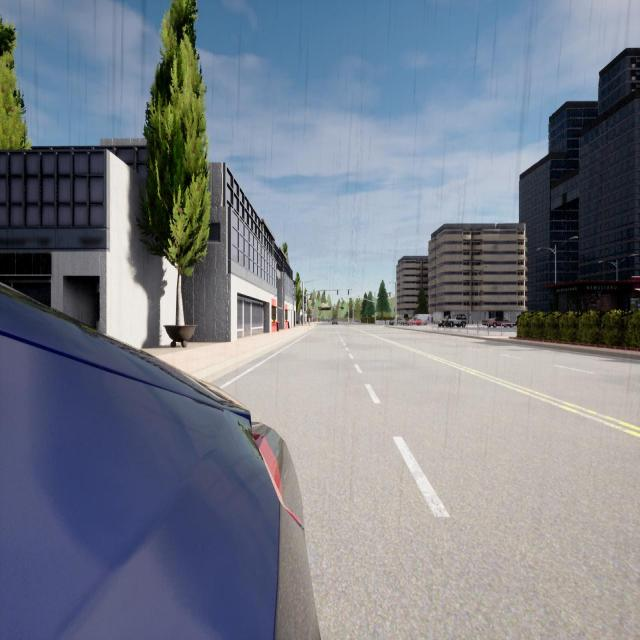Vehicle: (0, 284, 319, 638), (481, 317, 516, 328), (406, 314, 432, 325), (448, 314, 467, 328), (389, 317, 405, 326), (438, 315, 449, 328), (332, 319, 338, 325)
traffic_light: (349, 298, 351, 302), (374, 310, 376, 314), (394, 306, 395, 312), (348, 289, 349, 295), (324, 290, 325, 295), (337, 290, 338, 295), (359, 298, 360, 302), (390, 293, 390, 297), (342, 298, 342, 300)
